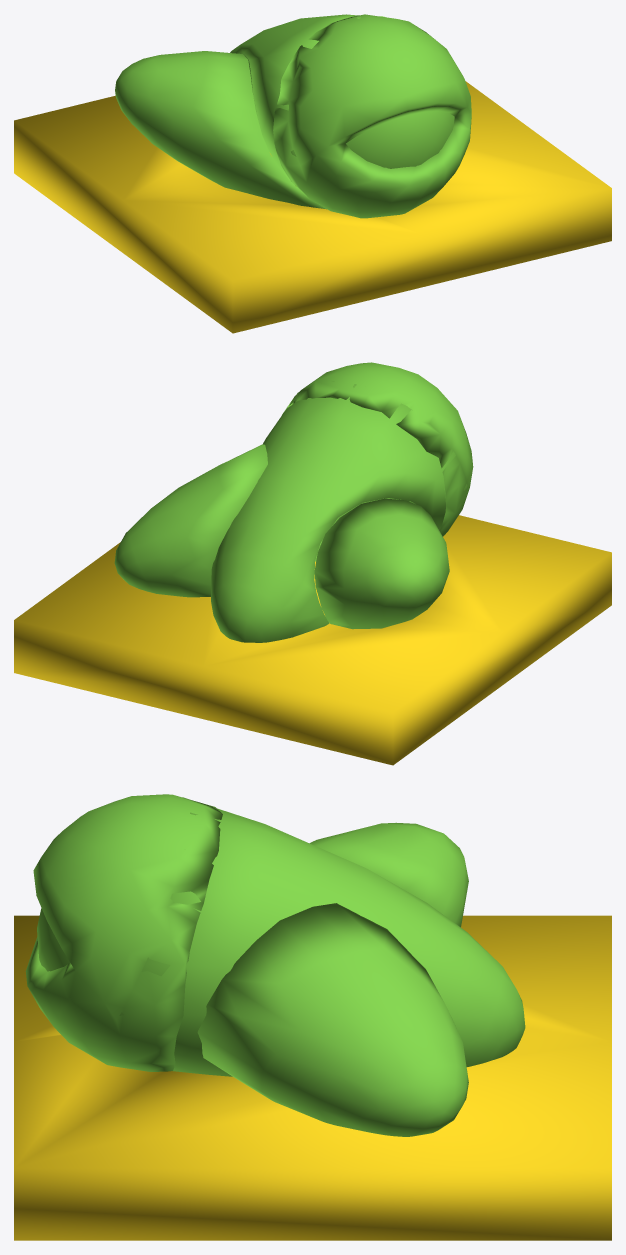
File: baby_3.glb
3 renders of one model, top to bottom at view 1: azimuth 30°, elevation 25°; view 2: azimuth 150°, elevation 25°; view 3: azimuth 270°, elevation 25°, orthographic. The views are drawn at different scales.
Visible parts, largest first — view 1: basetta, figura; view 2: basetta, figura; view 3: figura, basetta.
Part boxes in pixels (x1=…): basetta: x1=14, y1=81, x2=611, y2=333; figura: x1=115, y1=14, x2=471, y2=218; basetta: x1=14, y1=515, x2=611, y2=765; figura: x1=114, y1=362, x2=473, y2=642; figura: x1=25, y1=794, x2=525, y2=1136; basetta: x1=14, y1=915, x2=611, y2=1240.
Bounding box in the file's own units: 0.015 × 0.0085 × 0.015.
